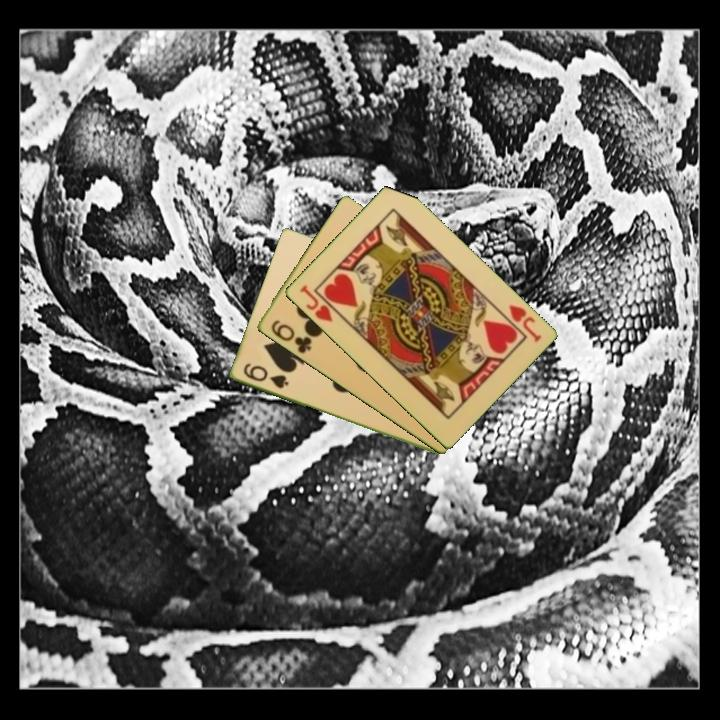6c: (267, 317, 314, 357)
6s: (239, 360, 291, 392)
Jh: (296, 281, 335, 325), (505, 301, 544, 345)
